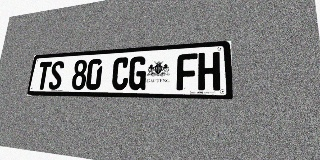0: (85, 59, 103, 90)
8: (71, 59, 88, 90)
C: (111, 57, 130, 90)
F: (176, 53, 197, 90)
G: (128, 56, 147, 90)
H: (198, 52, 220, 90)
S: (48, 61, 65, 90)
T: (36, 61, 52, 90)
